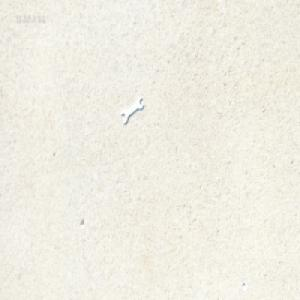Wrench: (121, 96, 143, 124)
